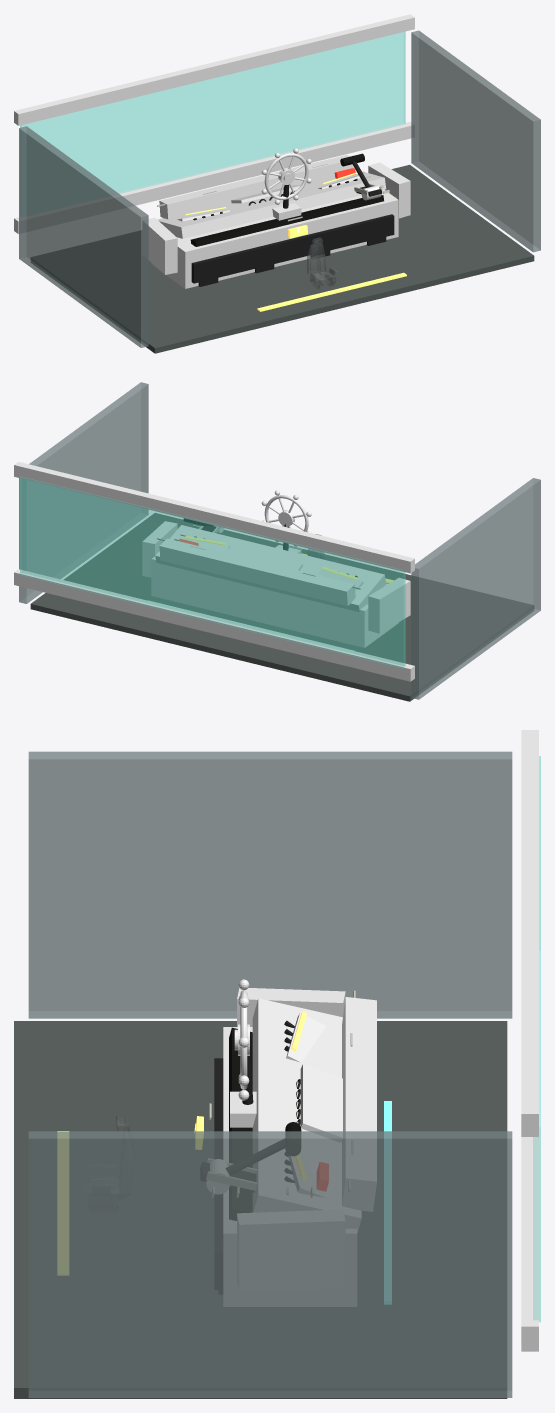
Rendered from ck_ctl02.glb.
The picture shows the model from 3 angles, top to bottom: view 1: azimuth 30°, elevation 25°; view 2: azimuth 150°, elevation 25°; view 3: azimuth 270°, elevation 25°; orthographic projection. The views are drawn at different scales.
Visible parts, largest first — view 1: front broad window screen proxy, cockpit floor footprint proxy, right cockpit wall proxy, left cockpit wall proxy, front upper frame proxy, front lower sill proxy, single-piece heavy lower console base, front armored lower kick plate, sloped main control deck, raised rear instrument coaming, recessed black hand rest strip, left angled side cheek (+4 smaller); view 2: front broad window screen proxy, cockpit floor footprint proxy, left cockpit wall proxy, right cockpit wall proxy, single-piece heavy lower console base, front lower sill proxy, front upper frame proxy, raised rear instrument coaming, sloped main control deck, left angled side cheek, right angled side cheek, central blank armored control plate; view 3: cockpit floor footprint proxy, right cockpit wall proxy, left cockpit wall proxy, sloped main control deck, right angled side cheek, front upper frame proxy, raised rear instrument coaming, single-piece heavy lower console base, front lower sill proxy, central blank armored control plate, front broad window screen proxy, recessed black hand rest strip (+6 smaller).
Part boxes in pixels (<box>): front broad window screen proxy: <box>20,32,405,193</box>; cockpit floor footprint proxy: <box>31,164,534,353</box>; right cockpit wall proxy: <box>411,30,540,252</box>; left cockpit wall proxy: <box>19,126,148,347</box>; front upper frame proxy: <box>14,14,414,125</box>; front lower sill proxy: <box>14,121,414,234</box>; single-piece heavy lower console base: <box>151,189,398,288</box>; front armored lower kick plate: <box>191,214,394,283</box>; sloped main control deck: <box>157,171,386,238</box>; raised rear instrument coaming: <box>159,155,355,219</box>; recessed black hand rest strip: <box>190,195,383,246</box>; left angled side cheek: <box>142,217,177,274</box>; front broad window screen proxy: <box>20,477,405,668</box>; cockpit floor footprint proxy: <box>30,513,533,701</box>; left cockpit wall proxy: <box>411,478,540,699</box>; right cockpit wall proxy: <box>19,382,148,603</box>; single-piece heavy lower console base: <box>151,556,398,647</box>; front lower sill proxy: <box>14,569,414,681</box>; front upper frame proxy: <box>14,462,414,573</box>; raised rear instrument coaming: <box>159,538,355,605</box>; sloped main control deck: <box>155,525,385,611</box>; left angled side cheek: <box>368,577,410,633</box>; right angled side cheek: <box>142,521,177,577</box>; central blank armored control plate: <box>237,549,302,570</box>; cockpit floor footprint proxy: <box>14,1021,507,1398</box>; right cockpit wall proxy: <box>28,1131,512,1397</box>; left cockpit wall proxy: <box>28,751,512,1018</box>; sloped main control deck: <box>252,998,361,1231</box>; right angled side cheek: <box>237,1209,345,1292</box>; front upper frame proxy: <box>521,730,538,1136</box>; raised rear instrument coaming: <box>342,997,376,1211</box>; single-piece heavy lower console base: <box>223,1027,356,1306</box>; front lower sill proxy: <box>521,1137,538,1351</box>; central blank armored control plate: <box>300,1064,342,1142</box>; front broad window screen proxy: <box>533,756,540,1322</box>; recessed black hand rest strip: <box>229,1027,252,1220</box>.
Bounding box in the file's own units: 9.28 × 3.28 × 5.34.
